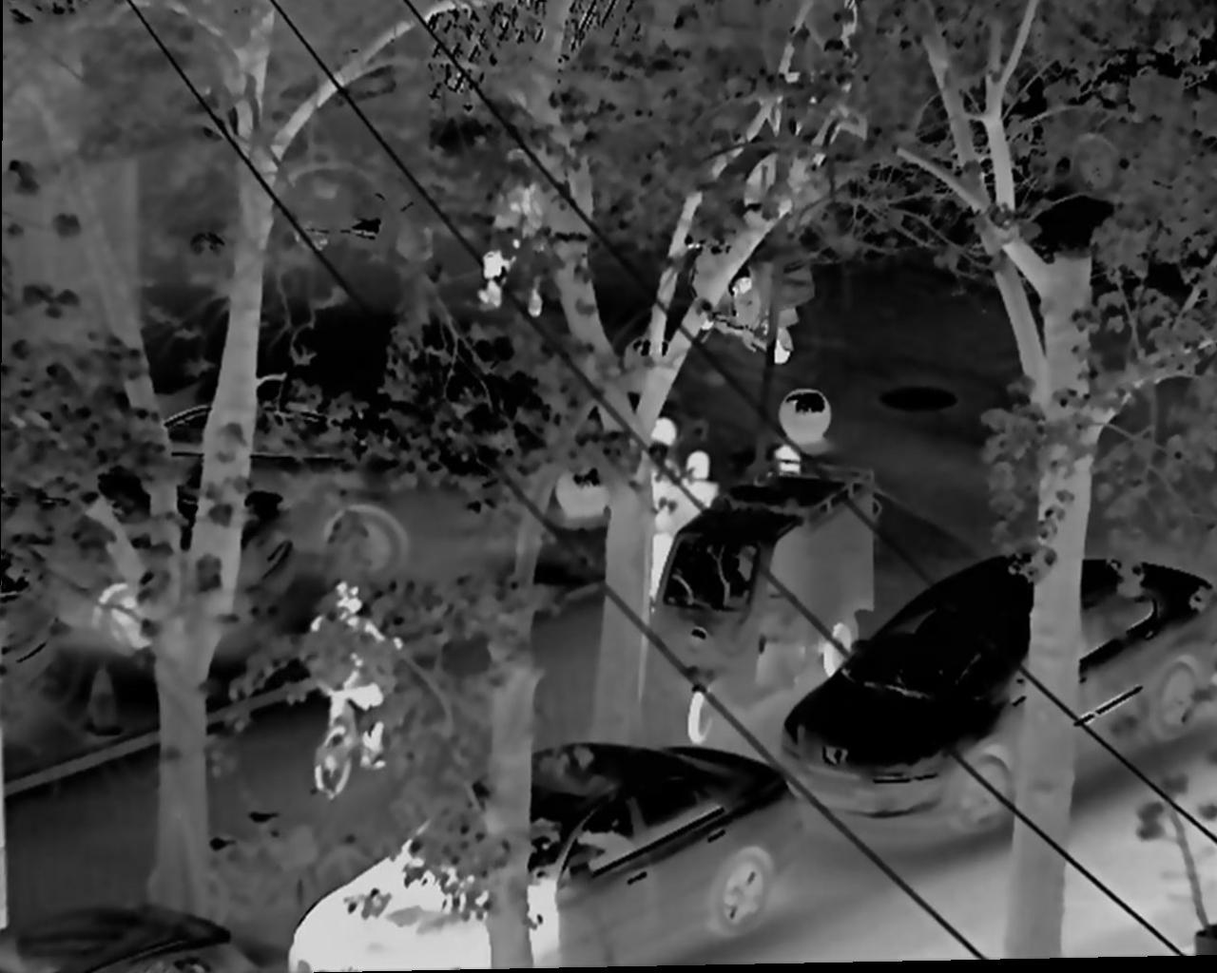person: (287, 566, 402, 789), (470, 127, 553, 320), (629, 410, 680, 595), (669, 443, 717, 525)
